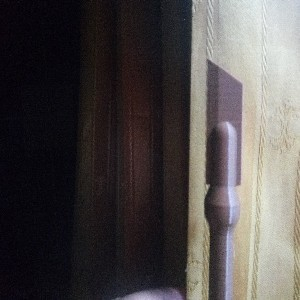cutter: (203, 57, 245, 300)
